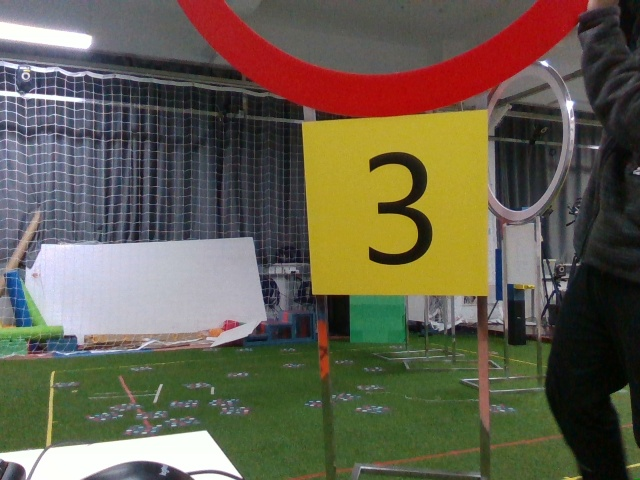target: (307, 118, 490, 292)
